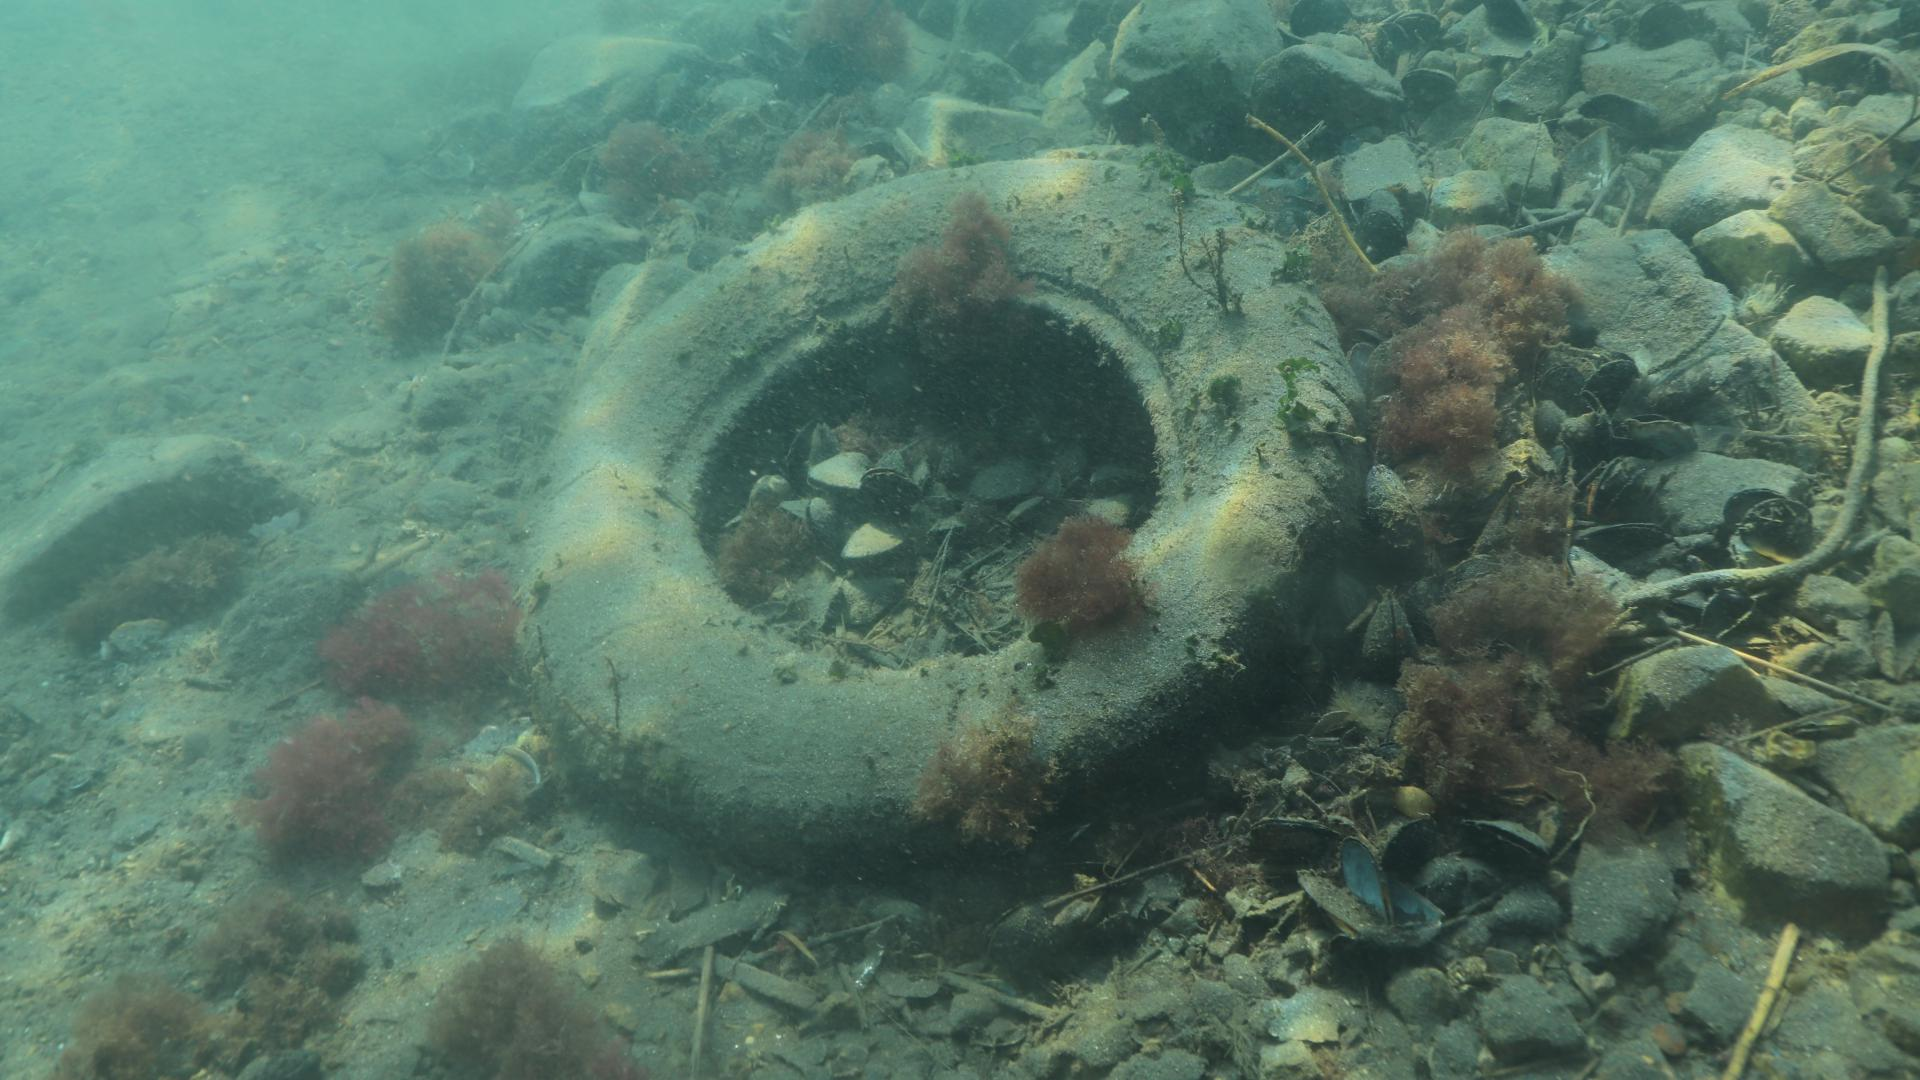tire: (517, 152, 1367, 880)
